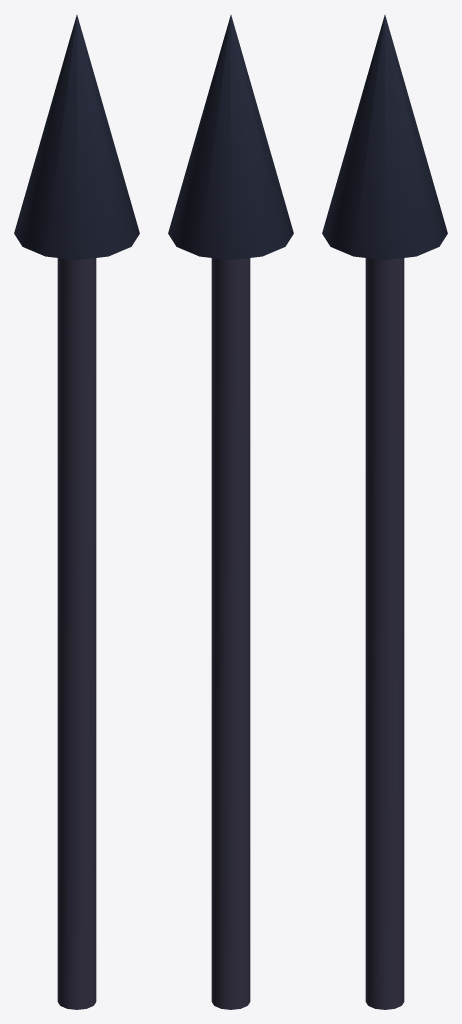
The model's file is lance.glb.
The picture shows the model from 3 angles, left to right: view 1: azimuth 90°, elevation 25°; view 2: azimuth 150°, elevation 25°; view 3: azimuth 270°, elevation 25°; orthographic projection.
Parts seen in each view (by area): view 1: lance_shaft, lance_head; view 2: lance_shaft, lance_head; view 3: lance_shaft, lance_head.
Part boxes in pixels (x1,y1,x2,y2): lance_shaft: (57,258,96,1009); lance_head: (14,15,139,259); lance_shaft: (211,258,250,1009); lance_head: (168,15,293,259); lance_shaft: (365,258,404,1009); lance_head: (322,15,447,259).
Size of the model in its own units: 0.26 by 2.25 by 0.26.
